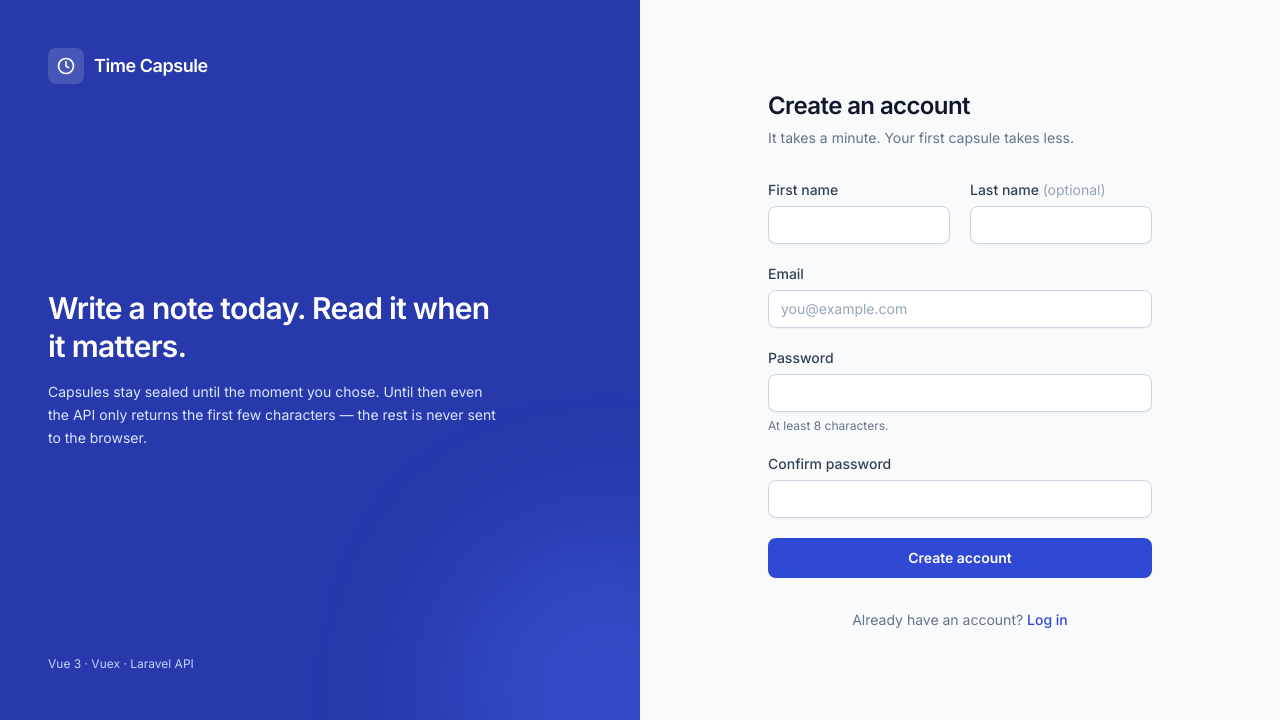
Test: SignupView › rejects a password that is too short
Type "Dana" into the field with id "firstName" at (859, 225), box [768,206,950,244]
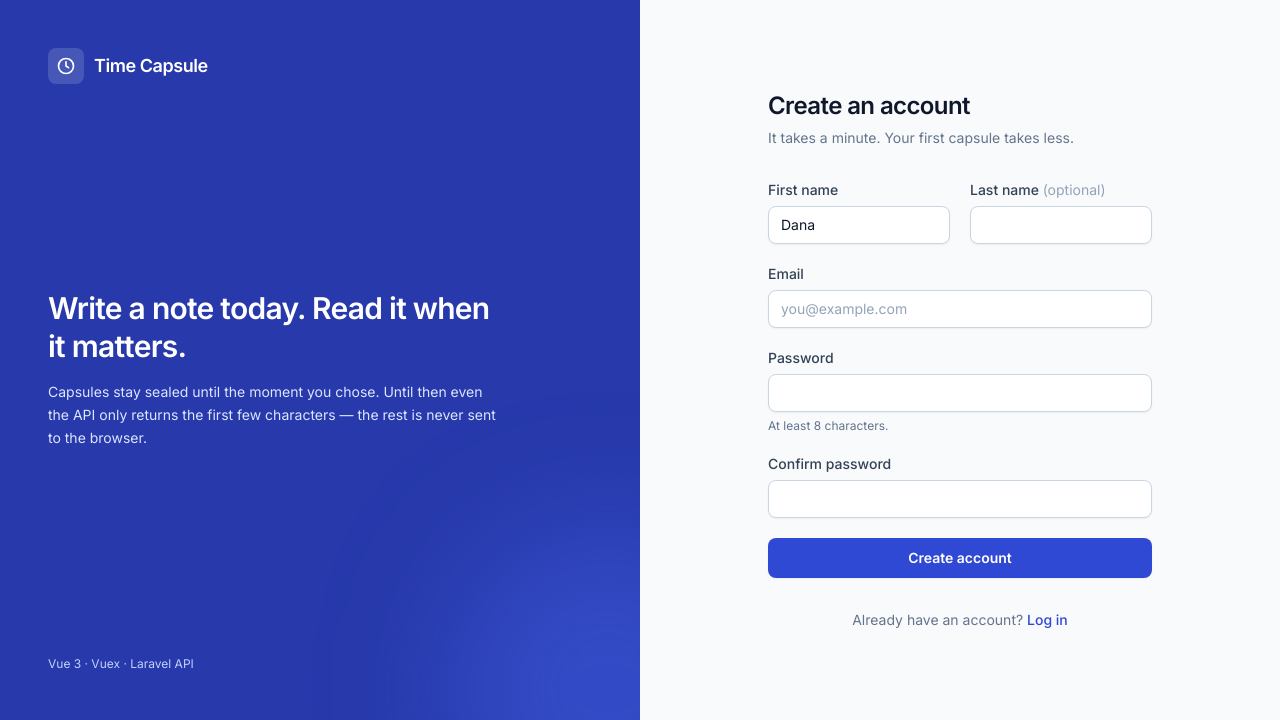
Type "Ruiz" into the field with id "lastName" at (1061, 225), box [970,206,1152,244]
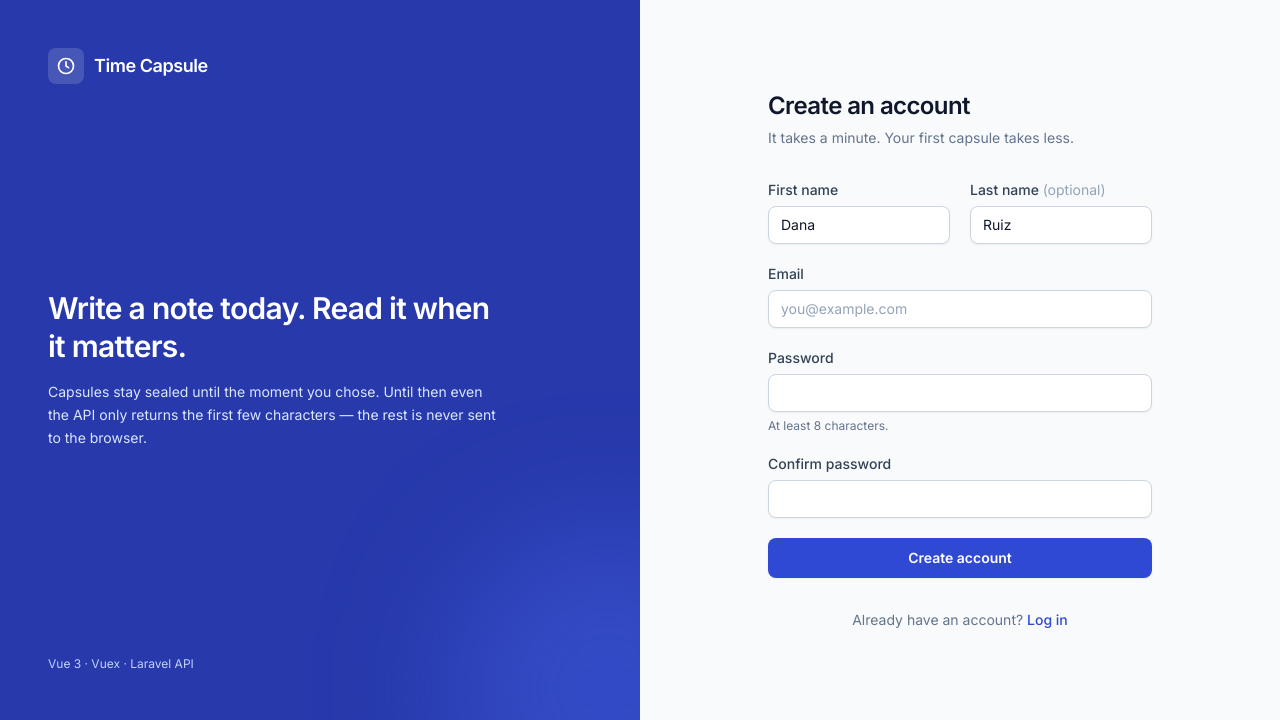
Type "dana@example.com" into the field with id "email" at (960, 309), box [768,290,1152,328]
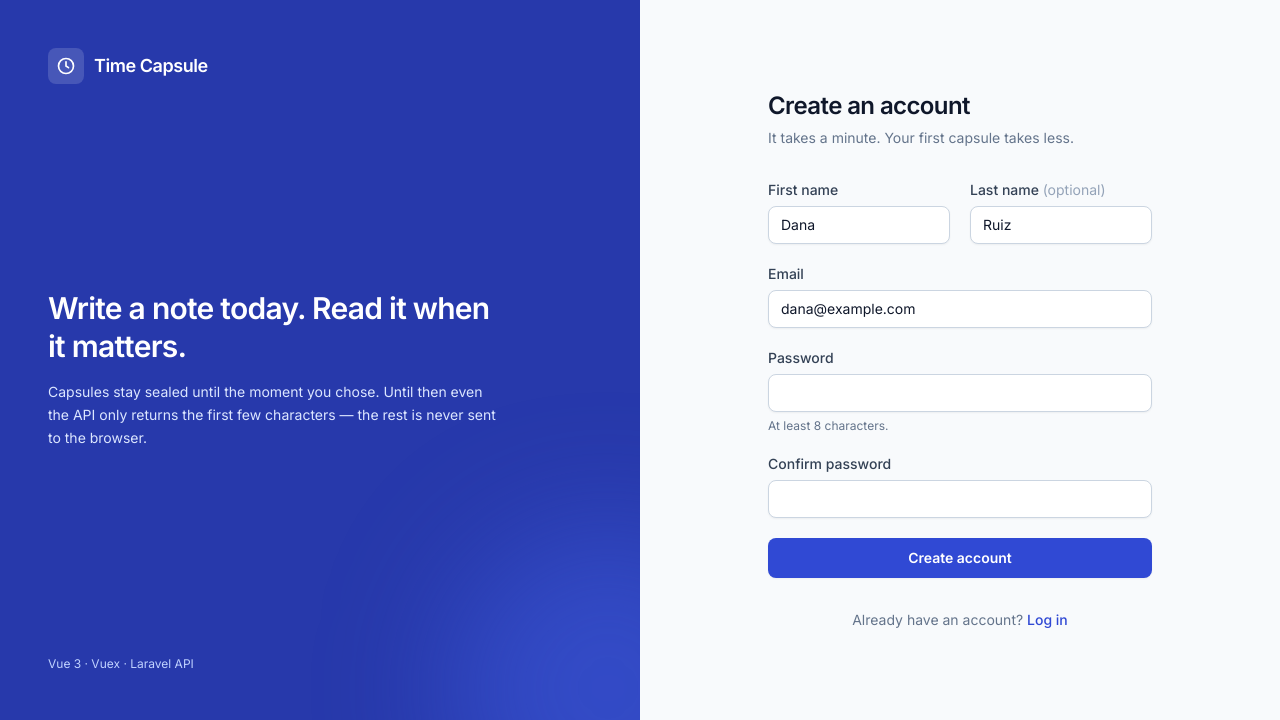
Type "short" into the password field labelled "Password" at (960, 393), box [768,374,1152,412]
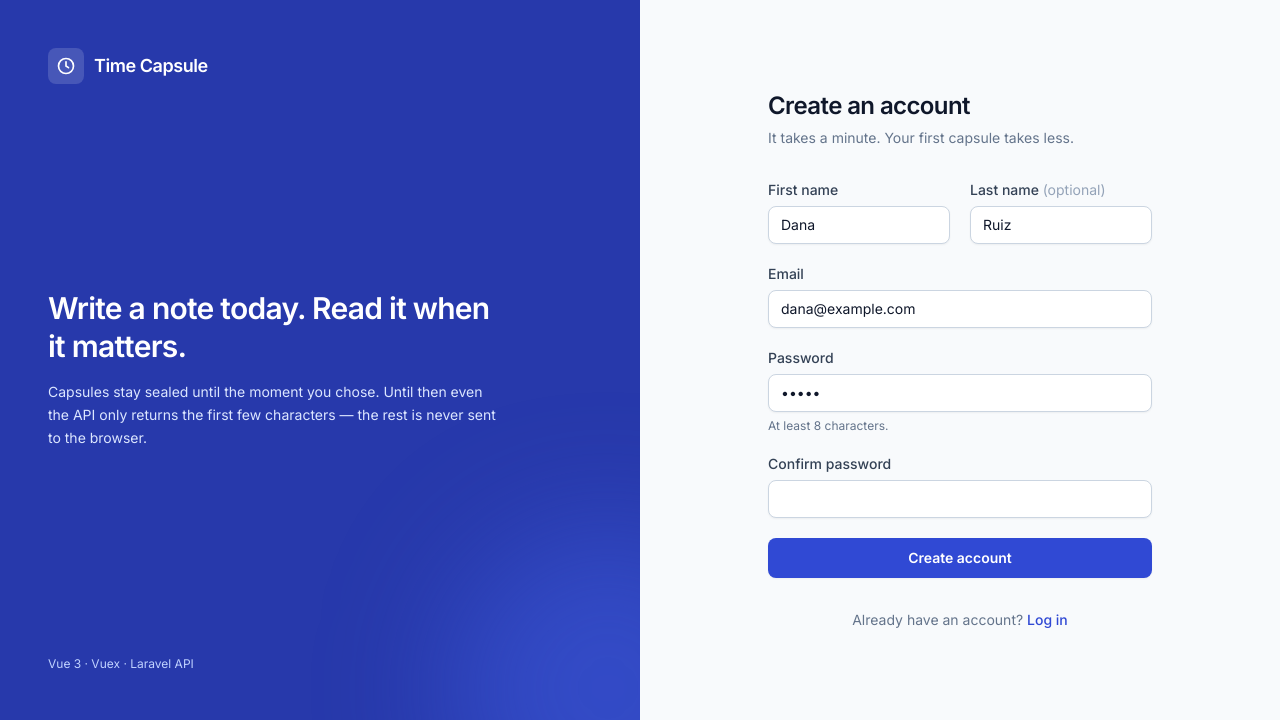
Type "short" into the password field labelled "Confirm password" at (960, 499), box [768,480,1152,518]
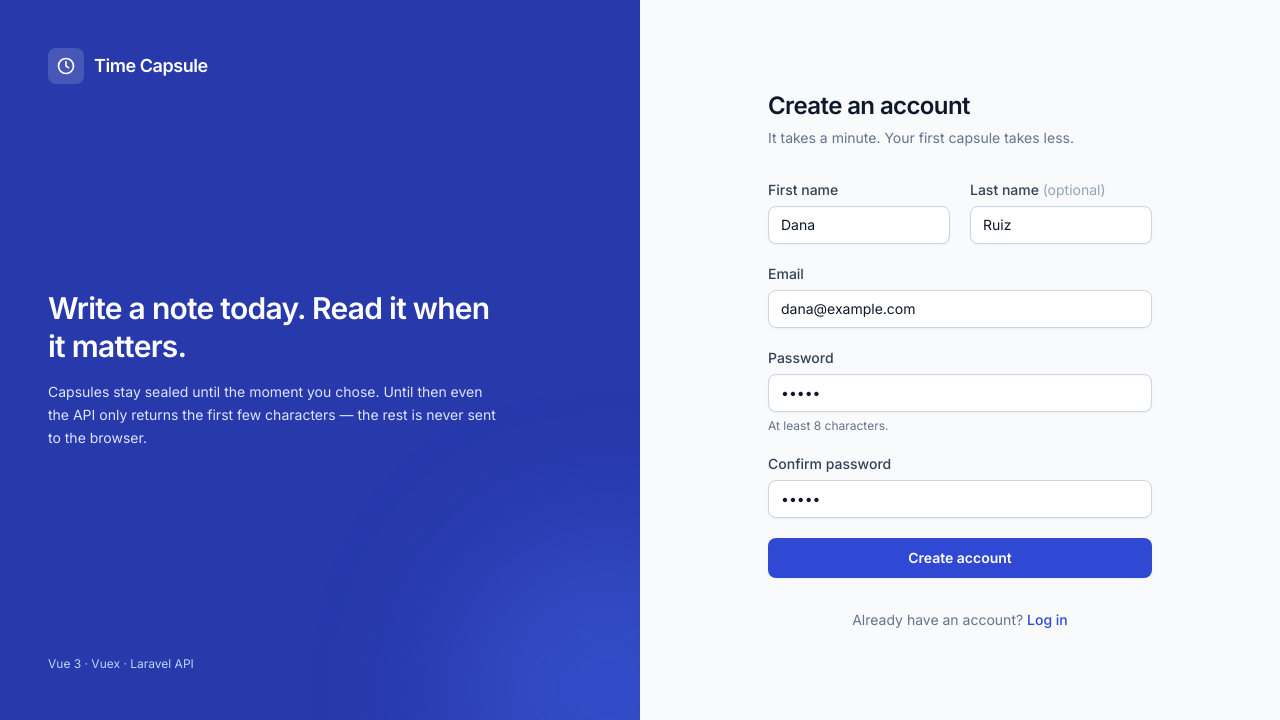
Submit the form, box [768,180,1152,578]
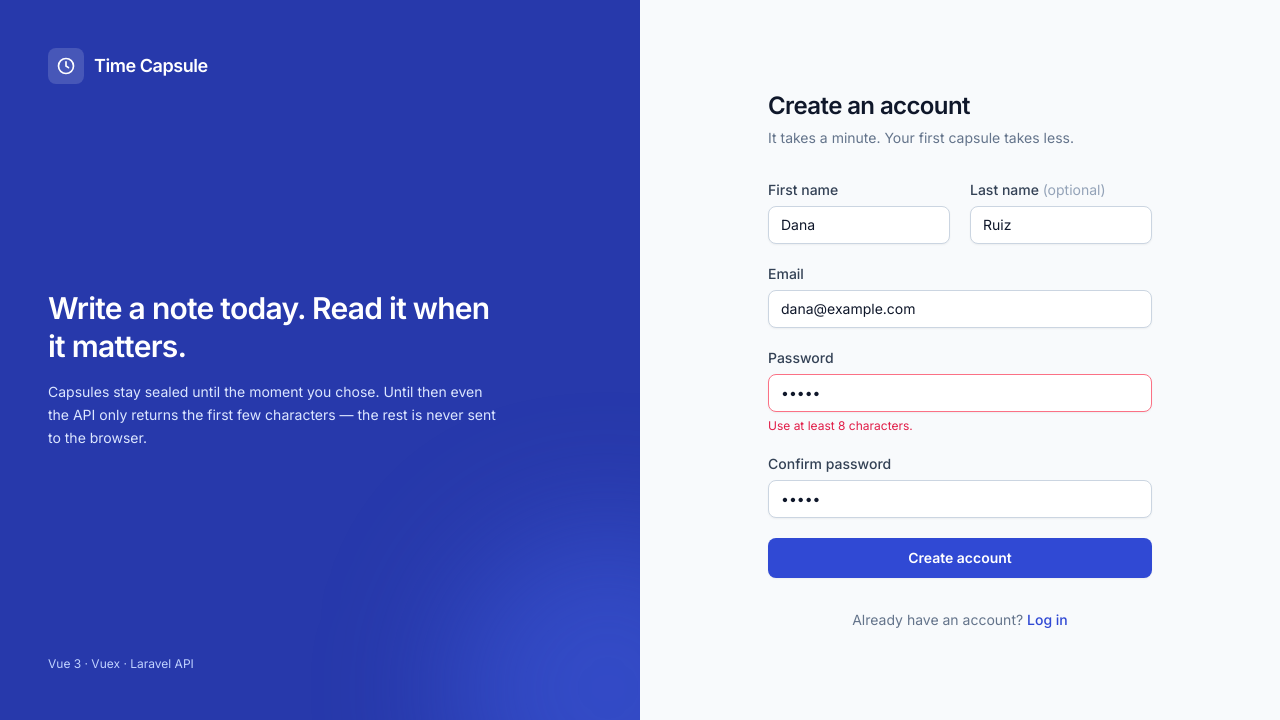
Check: the text "Use at least 8 characters." is shown, box [768,418,913,433]
